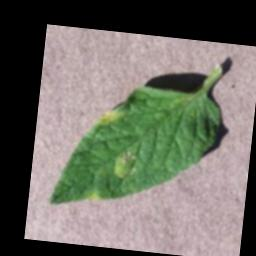Leaf_Mold: (96, 106, 128, 129)
